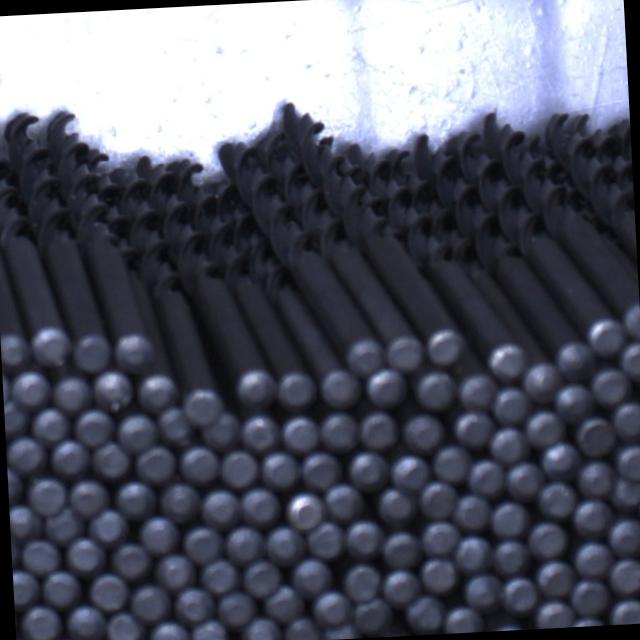tool: (114, 331, 160, 373), (29, 325, 72, 369), (413, 368, 458, 410), (352, 596, 398, 636), (160, 481, 203, 523), (116, 478, 159, 520), (92, 367, 134, 410), (347, 450, 389, 492), (116, 411, 158, 453), (363, 364, 405, 406), (237, 367, 280, 408), (404, 412, 446, 453), (66, 534, 108, 575), (137, 371, 179, 412), (321, 366, 364, 406), (522, 360, 563, 401), (69, 477, 111, 517), (131, 582, 173, 622), (266, 524, 308, 564), (136, 444, 178, 484), (238, 486, 280, 526), (28, 476, 69, 516), (182, 523, 223, 563), (76, 408, 117, 448), (179, 444, 220, 484), (224, 524, 265, 564), (10, 367, 51, 407), (359, 410, 400, 450), (318, 410, 358, 451), (202, 486, 242, 527), (323, 481, 364, 521), (47, 505, 90, 543), (140, 516, 180, 556), (302, 450, 342, 490), (284, 491, 324, 531), (406, 594, 446, 634), (576, 416, 616, 456), (292, 556, 332, 596), (72, 334, 112, 374), (6, 434, 46, 474), (182, 384, 222, 424), (155, 552, 196, 591), (487, 342, 528, 381), (30, 406, 72, 444), (524, 410, 566, 448), (197, 412, 239, 450), (91, 571, 131, 610), (266, 583, 306, 622), (262, 449, 302, 488), (453, 410, 493, 449), (44, 569, 84, 608), (590, 368, 630, 407), (554, 382, 593, 422), (52, 437, 93, 475), (111, 542, 152, 580), (176, 586, 217, 624), (280, 415, 319, 454), (427, 326, 466, 365), (390, 452, 430, 490), (91, 440, 131, 478), (536, 482, 576, 520), (53, 374, 93, 412), (466, 457, 506, 495), (570, 580, 610, 618), (489, 426, 529, 464), (586, 316, 624, 356), (466, 570, 506, 608), (312, 588, 352, 626), (23, 538, 64, 575), (66, 604, 108, 640), (307, 520, 346, 558), (432, 447, 471, 485), (222, 449, 260, 488), (241, 412, 280, 450), (346, 517, 384, 556), (387, 334, 426, 372), (531, 521, 571, 558), (276, 369, 316, 406), (344, 562, 382, 600), (244, 559, 282, 597), (420, 480, 458, 518), (383, 569, 421, 607), (454, 535, 492, 573), (572, 498, 610, 536), (491, 500, 530, 537), (504, 462, 543, 499), (218, 591, 258, 627), (90, 508, 130, 544), (202, 557, 242, 593), (22, 605, 63, 640), (420, 557, 458, 594), (536, 558, 574, 595), (500, 576, 539, 612), (377, 486, 416, 522), (380, 532, 419, 568), (461, 374, 498, 411), (348, 338, 384, 376), (453, 494, 491, 530), (543, 443, 581, 479), (9, 503, 44, 542), (579, 460, 615, 497), (574, 540, 610, 576), (492, 538, 528, 574), (492, 385, 528, 421), (158, 408, 194, 444), (422, 520, 459, 554), (444, 605, 484, 634), (107, 611, 146, 640), (608, 559, 640, 594), (535, 599, 572, 629), (610, 519, 640, 556), (12, 568, 40, 606), (612, 400, 640, 438), (0, 332, 29, 368), (4, 400, 30, 440), (610, 475, 640, 509), (243, 616, 282, 640), (284, 616, 322, 640), (149, 619, 190, 640), (617, 443, 640, 479), (610, 598, 640, 625), (621, 341, 640, 381), (190, 619, 226, 640), (7, 463, 25, 505), (568, 616, 607, 628)
